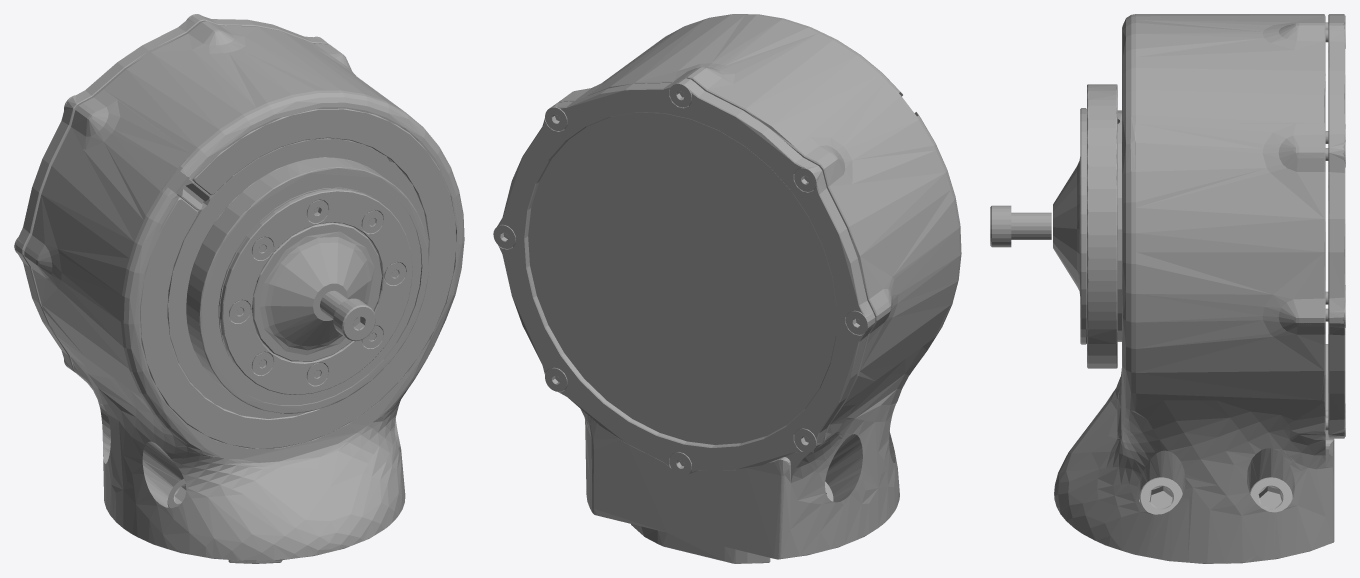
The model's file is hip-pitch-housing.obj.
The picture shows the model from 3 angles, left to right: view 1: azimuth 30°, elevation 25°; view 2: azimuth 150°, elevation 25°; view 3: azimuth 270°, elevation 25°; orthographic projection. The views are drawn at different scales.
Parts seen in each view (by area): view 1: hip-pitch-housing; view 2: hip-pitch-housing; view 3: hip-pitch-housing.
Boxes of the visible parts, x1,y1,x2,y2 form: hip-pitch-housing: [14, 14, 464, 563]; hip-pitch-housing: [493, 14, 961, 563]; hip-pitch-housing: [990, 14, 1345, 563].
Bounding box in the file's own units: 0.102 × 0.123 × 0.0811.
Materials: 1 (1 with a texture image).
